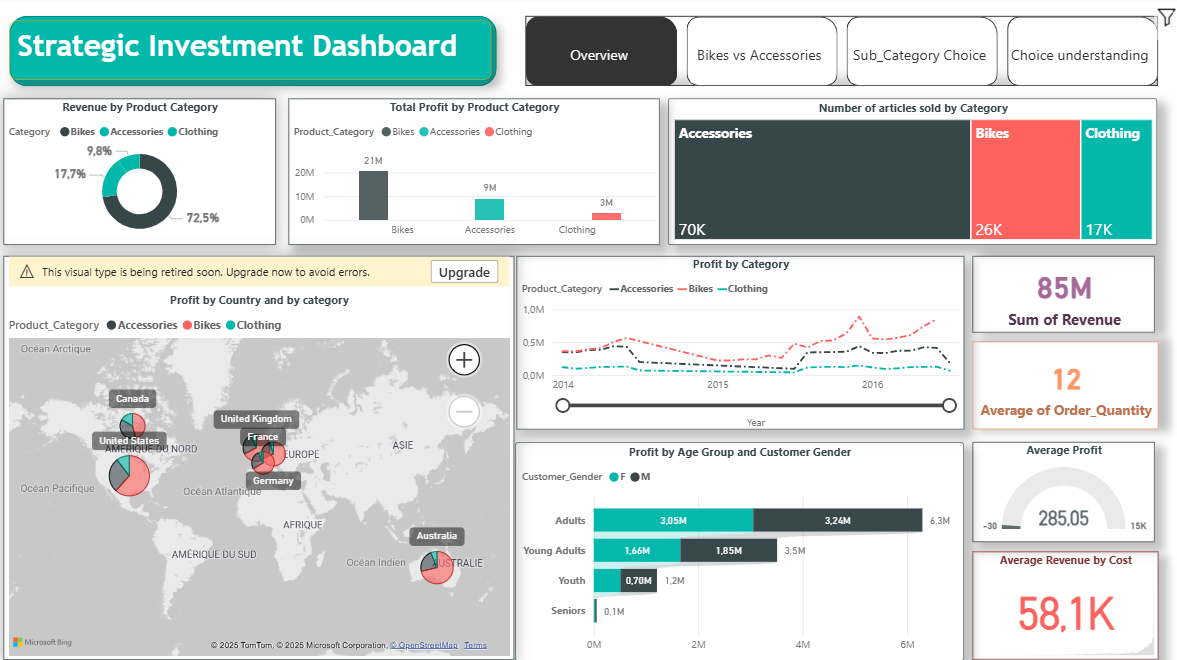

The dashboard page shown, as its layout file describes it:
{"tool":"powerbi","page":{"name":"Overview","canvas":[1280,720],"ordinal":0},"visuals":[{"type":"donutChart","title":"Revenue by Product Category","fields":{"Category":["sales_bicycles (1).Product_Category"],"Y":["Sum(sales_bicycles (1).Revenue)"]},"box":[10.9,111.7,293.9,157.9],"z":0},{"type":"clusteredColumnChart","title":"Total Profit by Product Category","fields":{"Y":["Sum(sales_bicycles (1).Profit)"],"Category":["sales_bicycles (1).Product_Category"],"Series":["sales_bicycles (1).Product_Category"]},"box":[318.2,111.7,400.8,157.9],"z":1000},{"type":"treemap","title":"Number of articles sold by Category","fields":{"Values":["CountNonNull(sales_bicycles (1).ID)"],"Group":["sales_bicycles (1).Product_Category"]},"box":[728.7,111.7,528.3,157.9],"z":2000},{"type":"map","title":"Profit by Country and by category","fields":{"Category":["sales_bicycles (1).Country"],"Size":["Sum(sales_bicycles (1).Profit)"],"Series":["sales_bicycles (1).Product_Category"]},"box":[12.1,281.7,551.3,436],"z":3000},{"type":"lineChart","title":"Profit by Category","fields":{"Y":["Sum(sales_bicycles (1).Profit)"],"Series":["sales_bicycles (1).Product_Category"],"Category":["sales_bicycles (1).Date.Variation.Date Hierarchy.Year","sales_bicycles (1).Date.Variation.Date Hierarchy.Quarter","sales_bicycles (1).Date.Variation.Date Hierarchy.Month"]},"box":[564.7,281.7,483.3,187],"z":4000},{"type":"barChart","title":"Profit by Age Group and Customer Gender","fields":{"Category":["sales_bicycles (1).Age_Group"],"Y":["Sum(sales_bicycles (1).Profit)"],"Series":["sales_bicycles (1).Customer_Gender"]},"box":[563.5,482.1,484.6,236.8],"z":5000},{"type":"card","fields":{"Values":["Avg(sales_bicycles (1).Order_Quantity)"]},"box":[1056.5,374,200.4,94.7],"z":6000},{"type":"card","fields":{"Values":["Sum(sales_bicycles (1).Revenue)"]},"box":[1056.5,281.7,196.7,82.6],"z":7000},{"type":"gauge","title":"Average Profit","fields":{"Y":["Avg(sales_bicycles (1).Profit)"],"MinValue":["Min(sales_bicycles (1).Profit)1"],"MaxValue":["Max(sales_bicycles (1).Profit)2"]},"box":[1056.5,482.1,196.7,108.1],"z":8000},{"type":"kpi","title":"Average Revenue by Cost","fields":{"Indicator":["Avg(sales_bicycles (1).Revenue)"],"TrendLine":["sales_bicycles (1).Cost"]},"box":[1056.5,601.1,200.4,116.6],"z":9000},{"type":"shape","box":[17.9,21.9,525.8,75.7],"z":10000},{"type":"pageNavigator","box":[574.4,21.9,682.5,75.3],"z":11000},{"type":"textbox","box":[17.9,27.9,519.8,63.7],"z":12000},{"type":"actionButton","box":[1252.5,0,28.3,49],"z":13000}]}

Visuals, with their boxes in screenshot pixels (x1, y1, x2, y2), scaled from the page's 1280x720 canvas onto the 1177x660 screenshot:
"Revenue by Product Category" donutChart: (10, 102, 280, 247)
"Total Profit by Product Category" clusteredColumnChart: (293, 102, 661, 247)
"Number of articles sold by Category" treemap: (670, 102, 1156, 247)
"Profit by Country and by category" map: (11, 258, 518, 658)
"Profit by Category" lineChart: (519, 258, 964, 430)
"Profit by Age Group and Customer Gender" barChart: (518, 442, 964, 659)
card - Avg(sales_bicycles (1).Order_Quantity): (971, 343, 1156, 430)
card - Sum(sales_bicycles (1).Revenue): (971, 258, 1152, 334)
"Average Profit" gauge: (971, 442, 1152, 541)
"Average Revenue by Cost" kpi: (971, 551, 1156, 658)
shape: (16, 20, 500, 89)
pageNavigator: (528, 20, 1156, 89)
textbox: (16, 26, 494, 84)
actionButton: (1152, 0, 1176, 45)
